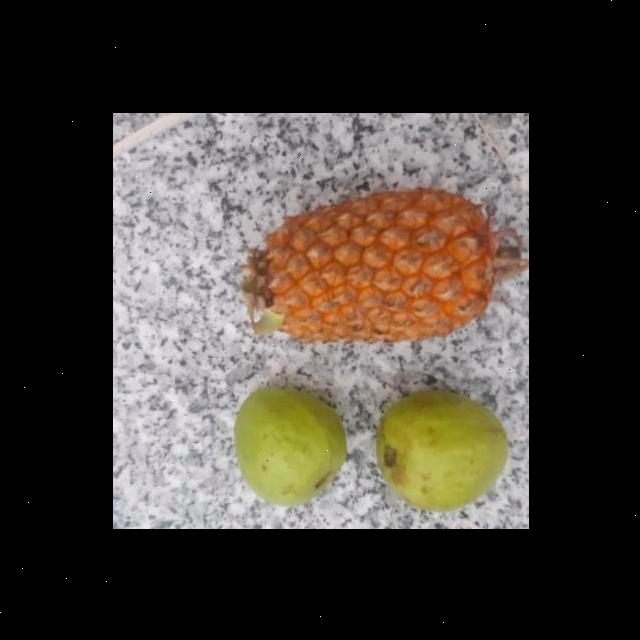guava: (368, 391, 507, 510), (228, 390, 348, 504)
pineapple: (231, 192, 528, 346)
